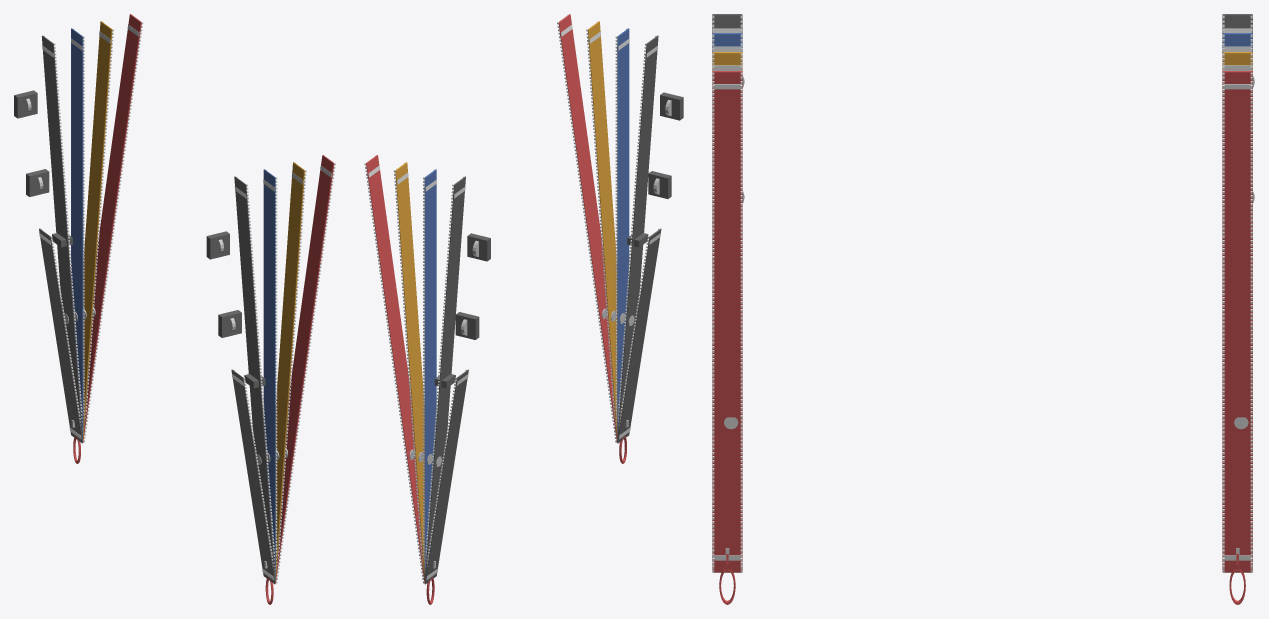
File: SM_Risers_Both.fbx
3 views of the same model, side by side, from view 1: azimuth 30°, elevation 25°; view 2: azimuth 150°, elevation 25°; view 3: azimuth 270°, elevation 25° (orthographic). The views are drawn at different scales.
Visible parts, largest first — view 1: Risers_Both; view 2: Risers_Both; view 3: Risers_Both.
Boxes of the visible parts, box(x1,y1,x2,y2) form: Risers_Both: box(14, 14, 335, 604); Risers_Both: box(364, 14, 683, 604); Risers_Both: box(712, 14, 1254, 604).
Bounding box in the file's own units: 0.1517 × 0.4465 × 0.5196.
